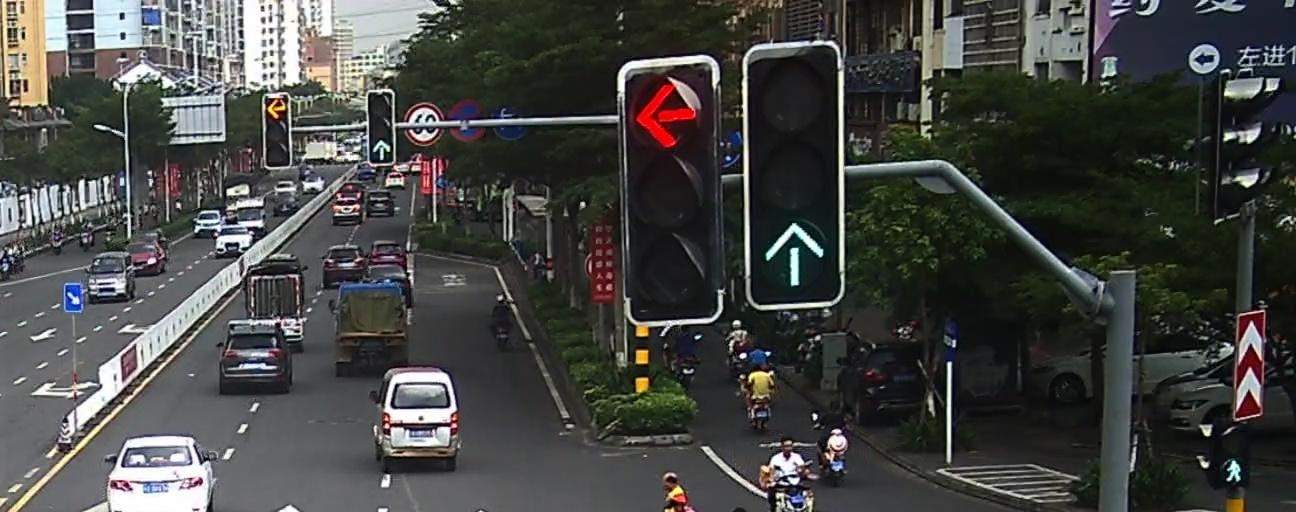greenpeople: (1220, 456, 1249, 485)
greenstraight: (756, 219, 826, 289), (369, 140, 393, 164)
redleft: (630, 79, 699, 148), (265, 97, 288, 120)
